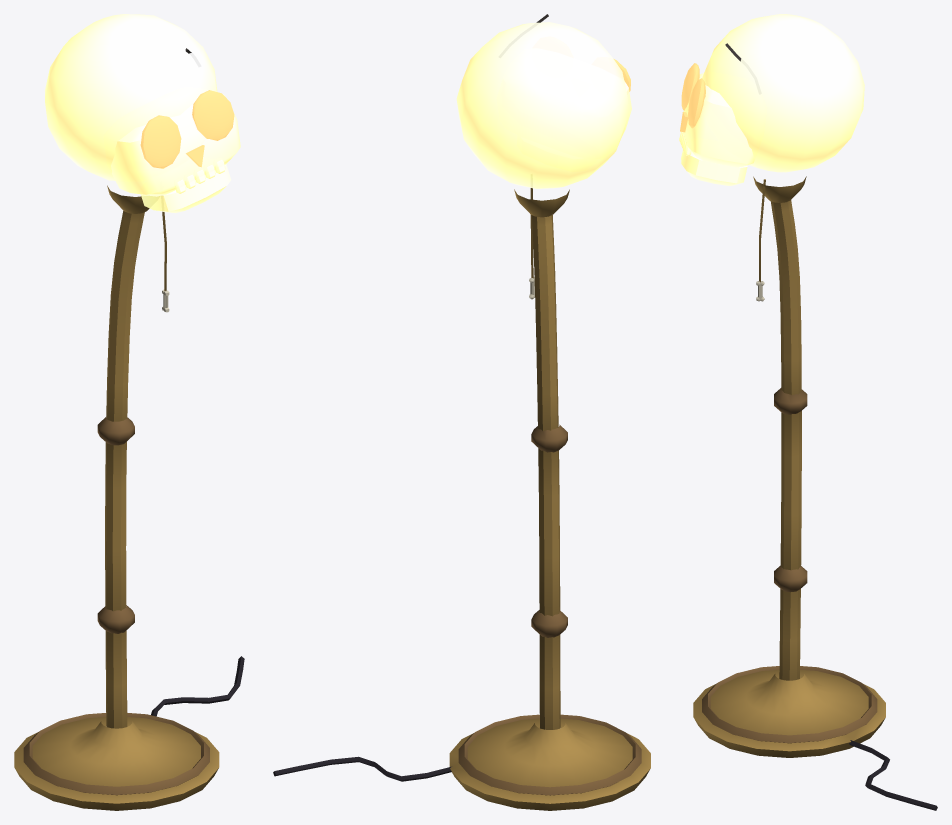
The model's file is lamp_skull.glb.
The picture shows the model from 3 angles, left to right: view 1: azimuth 30°, elevation 25°; view 2: azimuth 150°, elevation 25°; view 3: azimuth 270°, elevation 25°; orthographic projection. The views are drawn at different scales.
Visible parts, largest first — view 1: lamp_skull, bulb; view 2: lamp_skull, bulb; view 3: lamp_skull, bulb.
Boxes of the visible parts, x1=… form: lamp_skull: x1=14, y1=48, x2=244, y2=810; bulb: x1=45, y1=14, x2=240, y2=213; lamp_skull: x1=273, y1=14, x2=650, y2=810; bulb: x1=456, y1=22, x2=631, y2=188; lamp_skull: x1=693, y1=43, x2=937, y2=810; bulb: x1=679, y1=14, x2=864, y2=185.
Size of the model in its own units: 0.655 by 1.59 by 0.5296.
